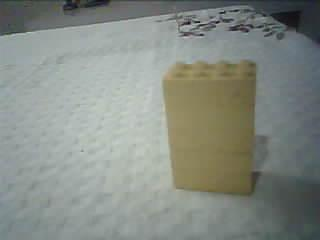lego: (160, 55, 259, 197)
